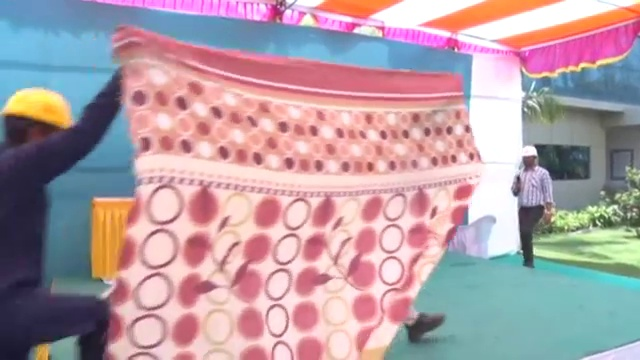helmet: (1, 83, 75, 133), (518, 144, 539, 159)
helmet_on: (1, 84, 74, 151), (517, 144, 538, 171)
person: (1, 65, 127, 360), (508, 144, 555, 271)
